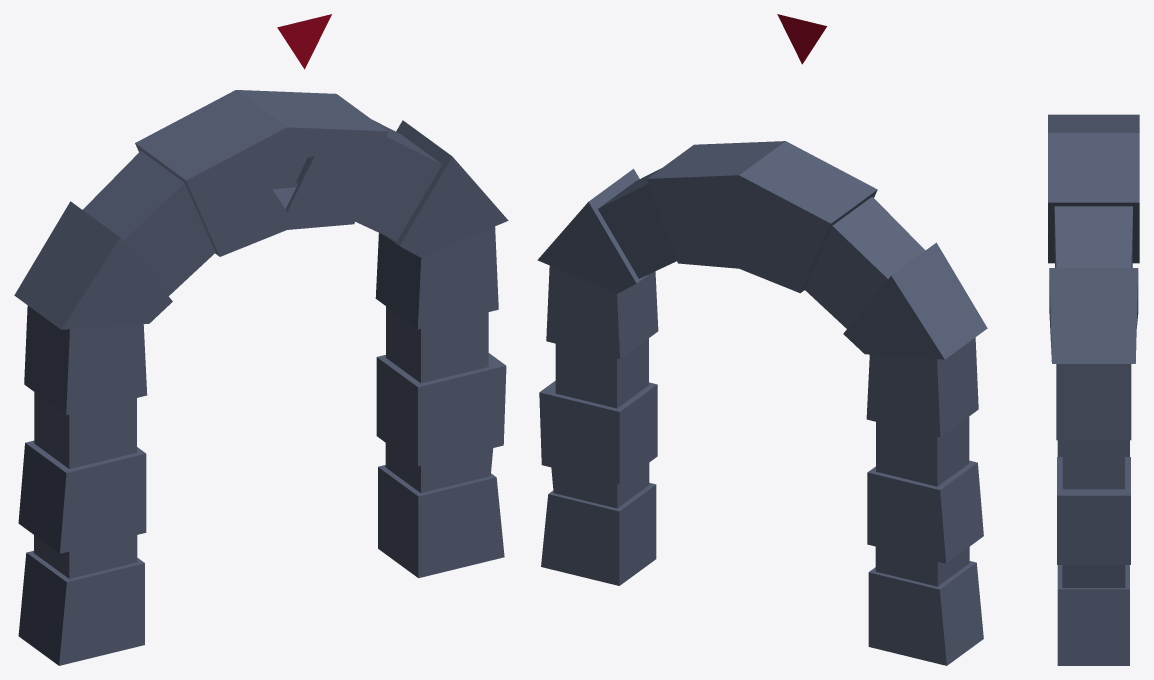
The model's file is door-arc-037.glb.
3 views of the same model, side by side, from view 1: azimuth 30°, elevation 25°; view 2: azimuth 150°, elevation 25°; view 3: azimuth 270°, elevation 25° (orthographic). The views are drawn at different scales.
Parts seen in each view (by area): view 1: door arc.037; view 2: door arc.037; view 3: door arc.037.
Boxes of the visible parts, x1,y1,x2,y2 form: door arc.037: (14,14,508,665); door arc.037: (537,14,987,665); door arc.037: (1048,114,1139,665).
Bounding box in the file's own units: 2 × 2.59 × 0.5341.
